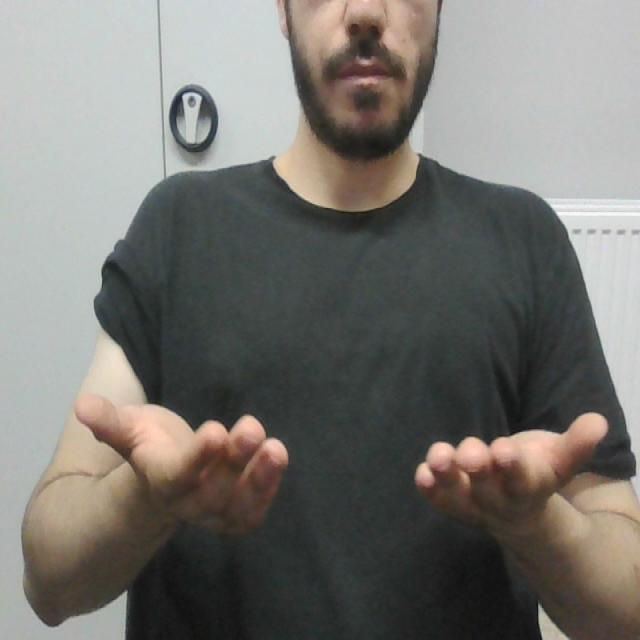Evet: (70, 380, 611, 528)
